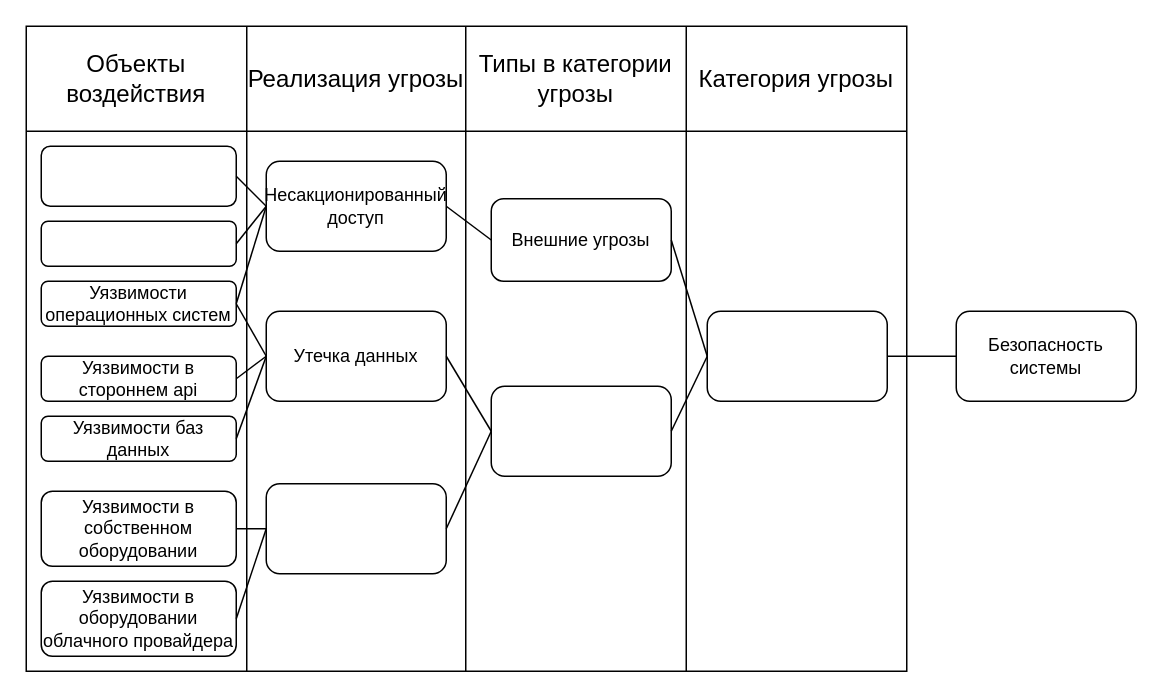
Some shapes in this 1163 by 698 pixel diagram are drawn without their labels. The centre of each missing label's shape, as x and y in pixels:
Аппаратные уязвимости: the point at 355,528
Внутренние угрозы: the point at 580,430
Угрозы по месту: the point at 796,355
Уязвимости в firewall: the point at 138,243
Уязвимости в системе авторизации: the point at 138,175
